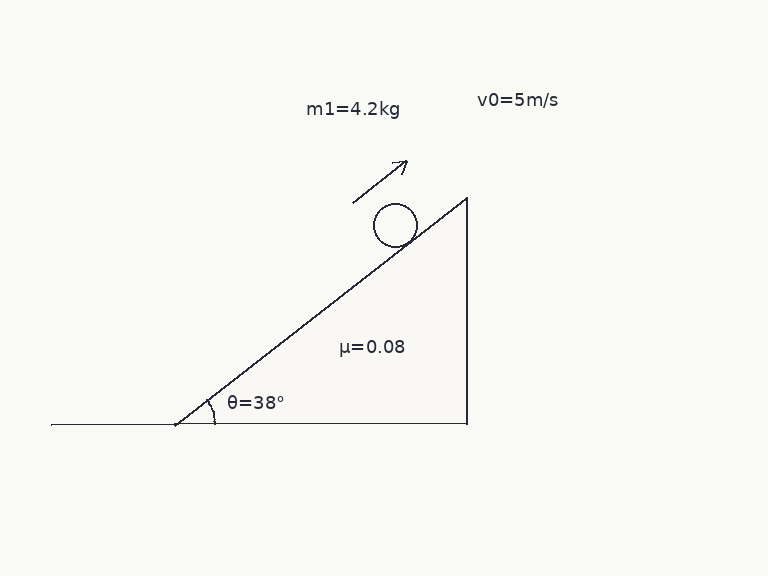ball: (371, 201, 419, 249)
ramp: (173, 195, 468, 426)
